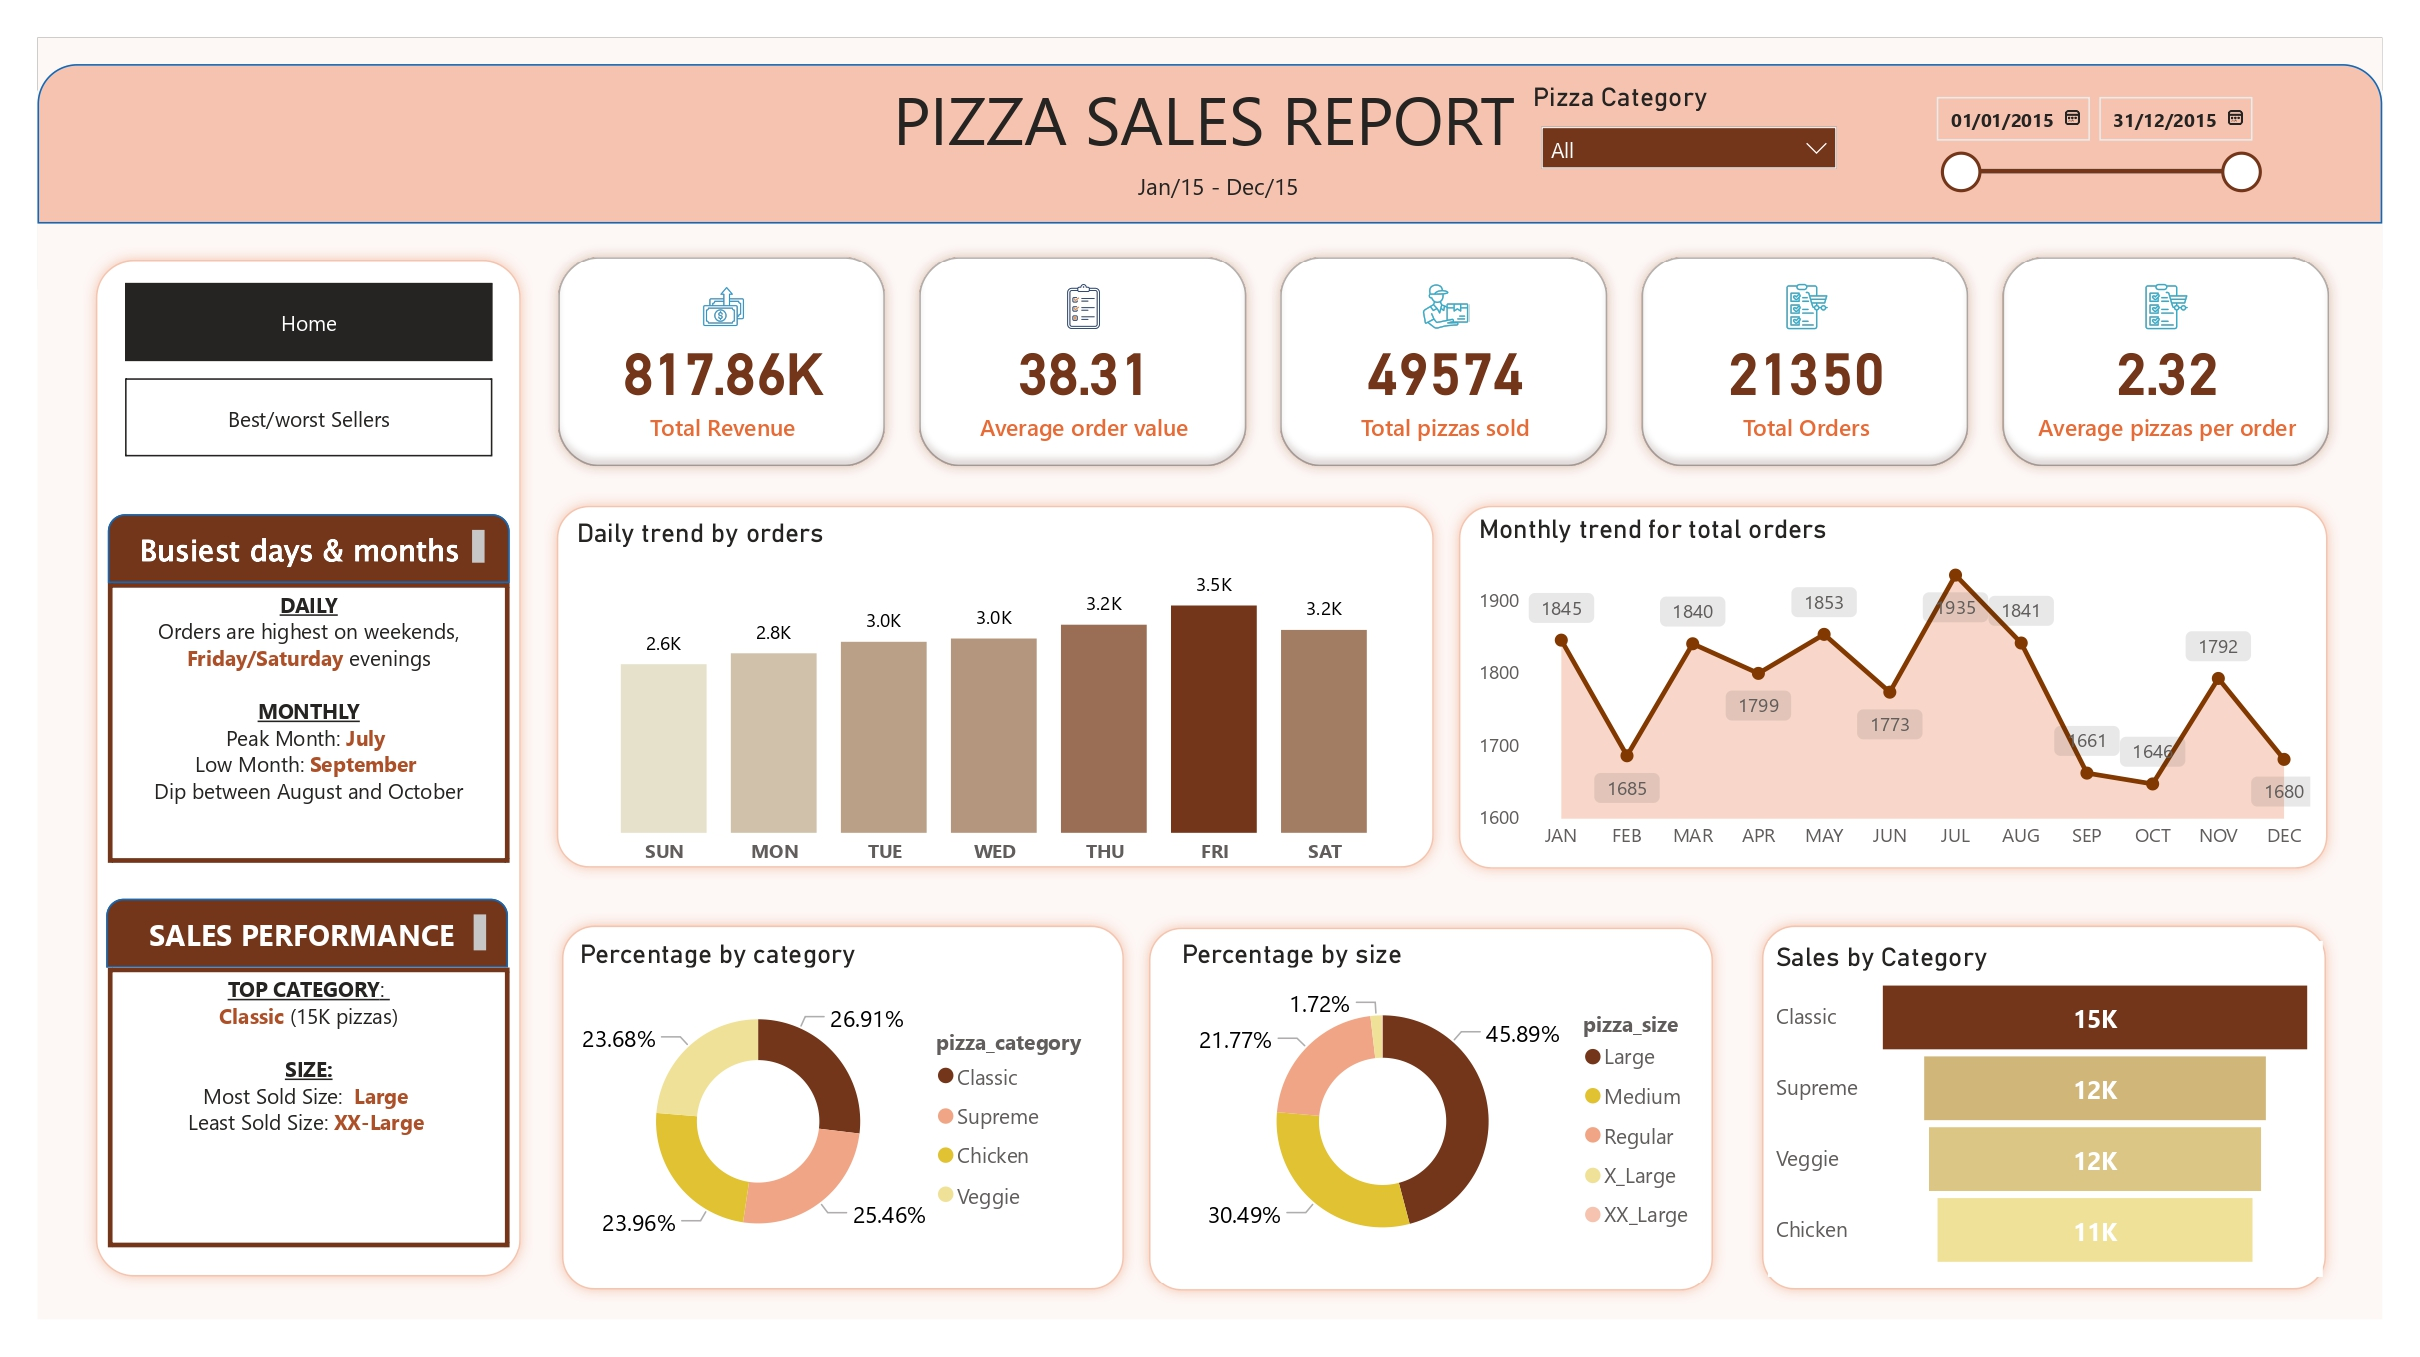

The page's visual inventory and layout, read from the dashboard file:
{"tool":"powerbi","page":{"name":"Home","canvas":[1500,820],"ordinal":0},"visuals":[{"type":"cardVisual","fields":{"Data":["pizza_sales.Total Revenue","pizza_sales.Average order value","pizza_sales.Total pizzas sold","pizza_sales.Total Orders","pizza_sales.Average pizzas per order"]},"box":[316.7,124.3,1168.6,165.7],"z":0},{"type":"shape","box":[0,17.1,1500,101.4],"z":1000},{"type":"shape","box":[703,561,377,249],"z":2000},{"type":"donutChart","title":"Percentage by size","fields":{"Y":["pizza_sales.Total Revenue"],"Category":["pizza_sales.pizza_size"]},"box":[727,576.3,347.5,215.5],"z":3000},{"type":"textbox","box":[698.6,80,140,38.6],"z":4000},{"type":"shape","box":[901.3,290.7,571.5,248.7],"z":4000,"group":"g1"},{"type":"shape","box":[28.6,134.3,288.6,667.1],"z":5000},{"type":"shape","box":[324.2,290.7,577.1,248.7],"z":6000},{"type":"areaChart","title":"Monthly trend for total orders","fields":{"Y":["pizza_sales.Total Orders"],"Category":["pizza_sales.Order Month"]},"box":[917.3,303.9,541.8,224.9],"z":7000,"group":"g1"},{"type":"shape","box":[327,560.4,375.9,248.7],"z":7000},{"type":"columnChart","title":"Daily trend by orders","fields":{"Category":["pizza_sales.Order day"],"Y":["pizza_sales.Total Orders"]},"box":[339.6,307.4,545,232],"z":8000},{"type":"shape","box":[1095.3,560,376.9,248.6],"z":9000},{"type":"group","id":"g1","title":"Group 2","box":[901.3,290.7,571.5,248.7],"z":10000},{"type":"donutChart","title":"Percentage by category","fields":{"Category":["pizza_sales.pizza_category"],"Y":["pizza_sales.Total Revenue"]},"box":[341.8,576.3,347.5,215.5],"z":11000},{"type":"funnel","title":"Sales by Category","fields":{"Category":["pizza_sales.pizza_category"],"Y":["pizza_sales.Total pizzas sold"]},"box":[1107.4,577.6,354.5,215.5],"z":12000},{"type":"shape","box":[44.7,304.6,257.1,44.7],"z":13000},{"type":"textbox","box":[53.1,310.2,237.6,33.5],"z":14000},{"type":"shape","box":[44.7,349.4,257.1,178.9],"z":15000},{"type":"textbox","box":[44.7,349.4,257.1,166.3],"z":16000},{"type":"shape","box":[43.5,550.5,257.1,44.7],"z":17000},{"type":"shape","box":[44.7,595.3,257.1,178.9],"z":18000},{"type":"textbox","box":[44.7,595.3,257.1,156.5],"z":19000},{"type":"textbox","box":[54.5,556.2,237.6,33.5],"z":20000},{"type":"slicer","title":"Pizza Category","fields":{"Values":["pizza_sales.pizza_category"]},"box":[951.6,27.9,209.6,81.1],"z":21000},{"type":"slicer","title":"Pizza Category","fields":{"Values":["pizza_sales.order_date"]},"box":[1201.8,27.9,229.2,81.1],"z":22000},{"type":"pageNavigator","box":[55.9,156.5,234.8,50.3],"z":23000},{"type":"pageNavigator","box":[55.9,218,234.8,50.3],"z":24000},{"type":"textbox","box":[542.2,18.2,417.8,81.1],"z":25000}]}

Visuals, with their boxes on the page's 1500x820 design canvas (x1, y1, x2, y2). These are canvas units, not pixel positions in the 2420x1357 screenshot, which may show the page scaled, cropped or inside an application window:
cardVisual - pizza_sales.Total Revenue x pizza_sales.Average order value: [317,124,1485,290]
shape: [0,17,1500,118]
shape: [703,561,1080,810]
"Percentage by size" donutChart: [727,576,1074,792]
textbox: [699,80,839,119]
shape: [901,291,1473,539]
shape: [29,134,317,801]
shape: [324,291,901,539]
"Monthly trend for total orders" areaChart: [917,304,1459,529]
shape: [327,560,703,809]
"Daily trend by orders" columnChart: [340,307,885,539]
shape: [1095,560,1472,809]
"Group 2" group: [901,291,1473,539]
"Percentage by category" donutChart: [342,576,689,792]
"Sales by Category" funnel: [1107,578,1462,793]
shape: [45,305,302,349]
textbox: [53,310,291,344]
shape: [45,349,302,528]
textbox: [45,349,302,516]
shape: [44,550,301,595]
shape: [45,595,302,774]
textbox: [45,595,302,752]
textbox: [54,556,292,590]
"Pizza Category" slicer: [952,28,1161,109]
"Pizza Category" slicer: [1202,28,1431,109]
pageNavigator: [56,156,291,207]
pageNavigator: [56,218,291,268]
textbox: [542,18,960,99]
